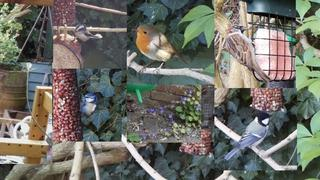blue tit: (77, 93, 98, 123)
great tit: (224, 112, 273, 161)
long tailed tit: (72, 24, 103, 45)
robin: (131, 24, 190, 77)
sparrow: (225, 24, 272, 84)
